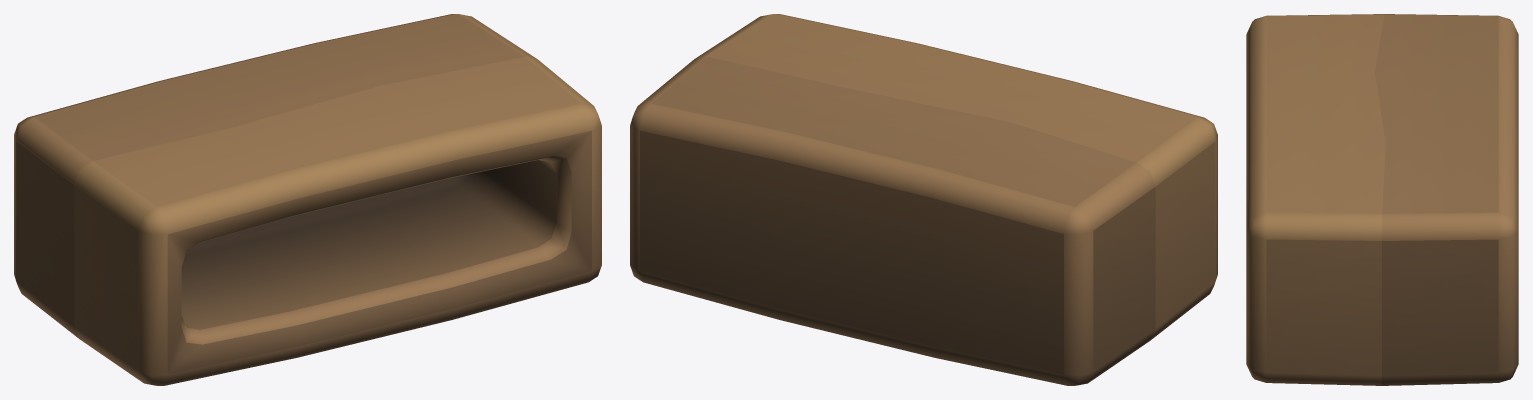
Rendered from sideboard_LOD_setup.fbx.
3 views of the same model, side by side, from view 1: azimuth 30°, elevation 25°; view 2: azimuth 150°, elevation 25°; view 3: azimuth 270°, elevation 25° (orthographic). The views are drawn at different scales.
Visible parts, largest first — view 1: sideboard_LOD0; view 2: sideboard_LOD0; view 3: sideboard_LOD0.
Boxes of the visible parts, box(x1,y1,x2,y2) form: sideboard_LOD0: box(14, 14, 601, 385); sideboard_LOD0: box(630, 14, 1217, 385); sideboard_LOD0: box(1246, 14, 1518, 385).
Size of what is drawn, in the model's own units: 102 by 39.33 by 54.
